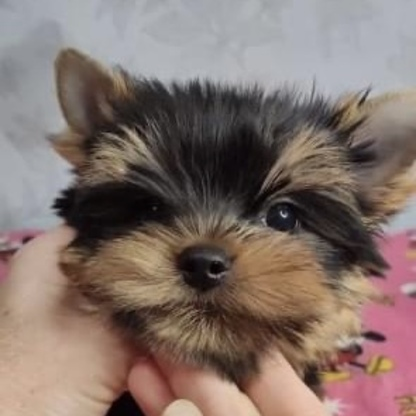yorkshire: (52, 46, 416, 359)
